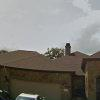Chimney: (59, 37, 75, 53)
